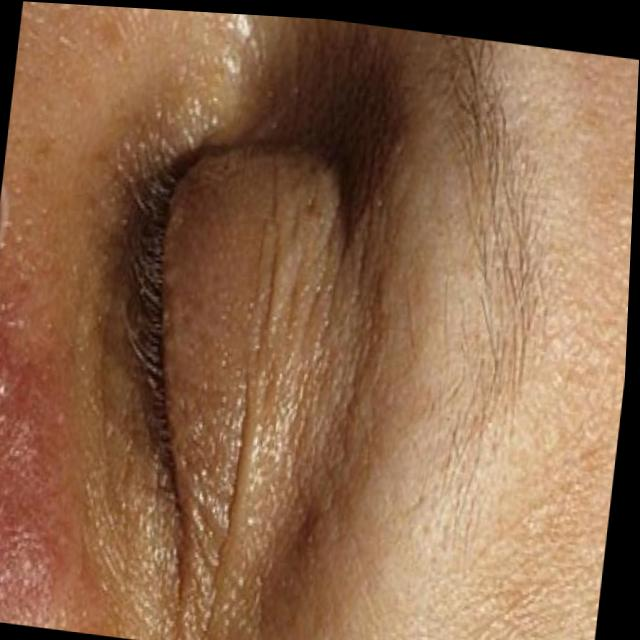Rosacea: (0, 393, 97, 632)
